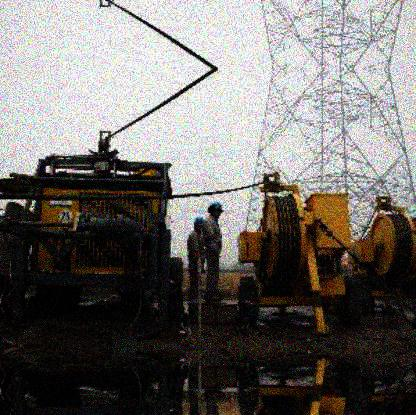helmet: (207, 201, 224, 219), (194, 216, 206, 231)
